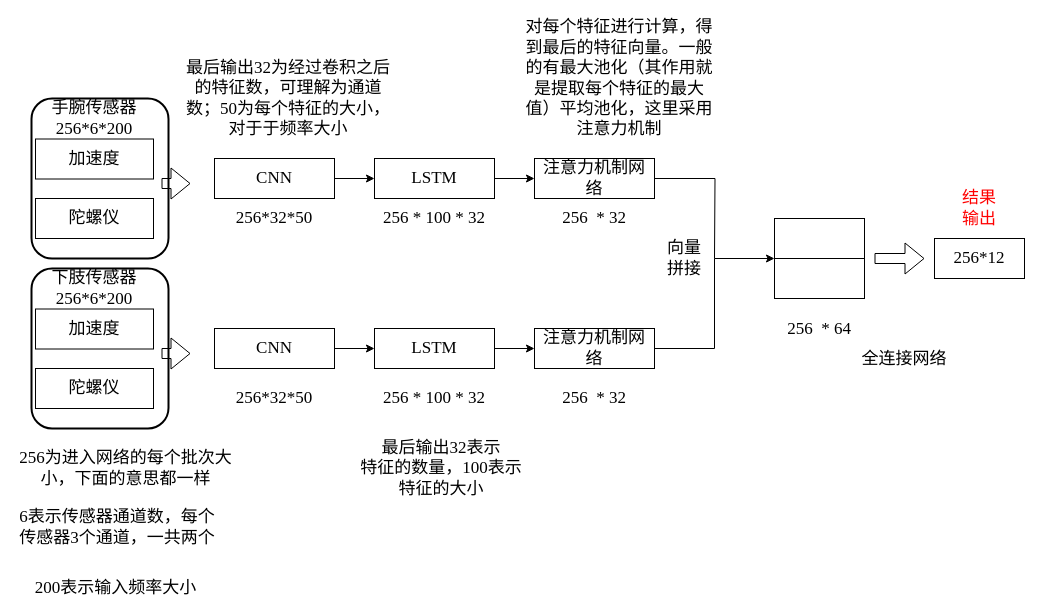
Image size: 1042x615. Some labels were removed from this diagram. The shapes that lost their labels are listed below. From the top down, each one's centre as x and y in pixels, then its label:
pixel 819 238: 特征
pixel 819 278: 向量
